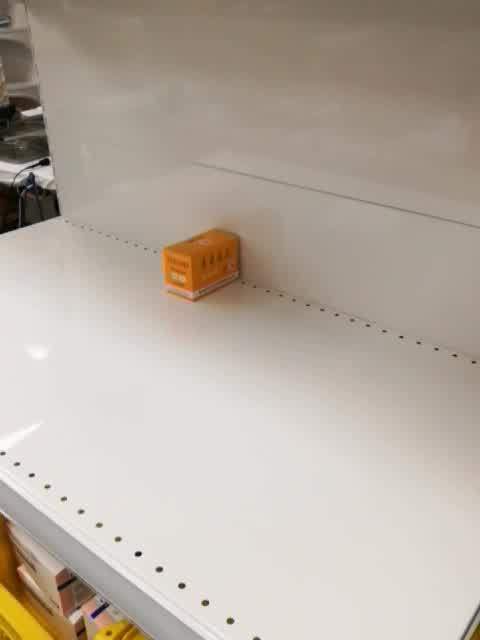jasminetea: (162, 228, 241, 303)
